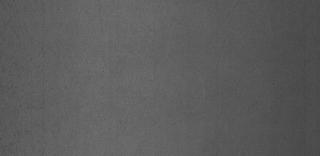silk spot: (12, 78, 54, 140)
